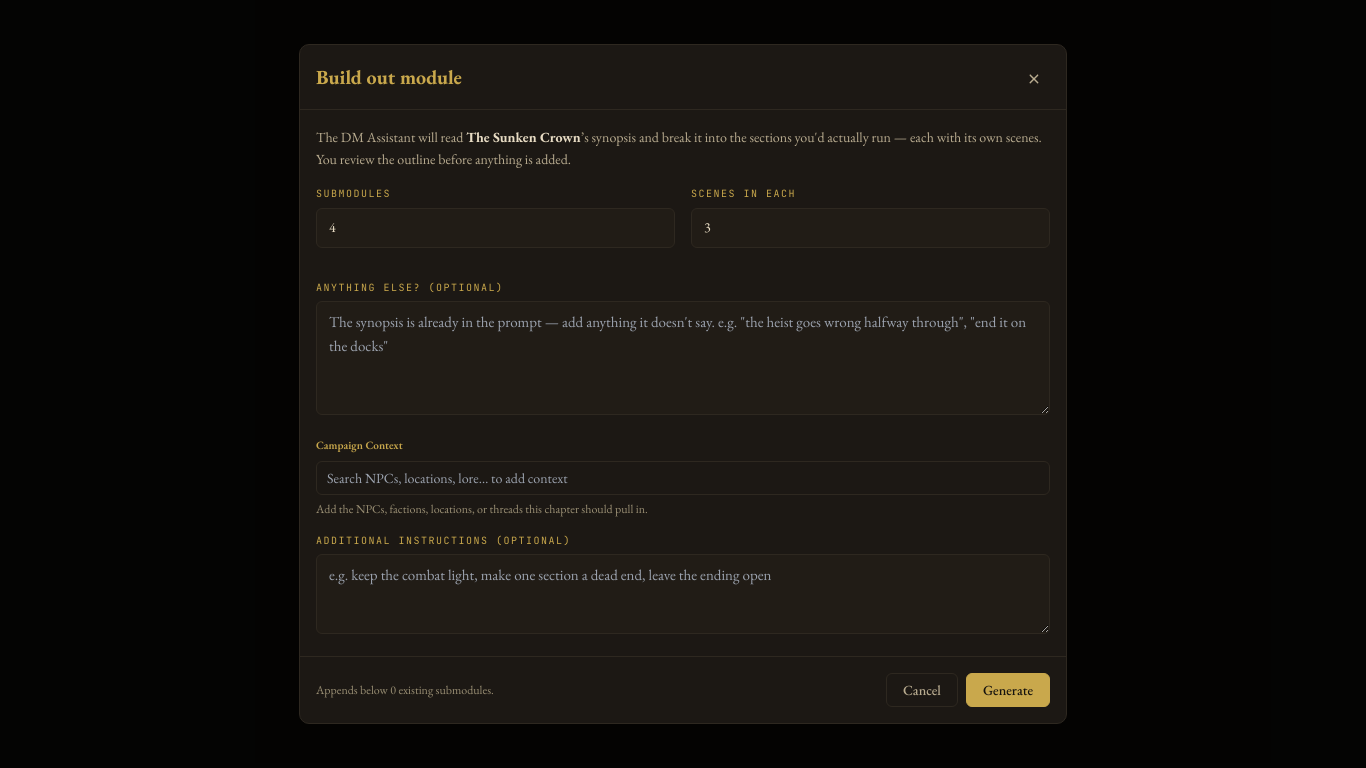
Test: GenerateModuleStructureModal › "Start over" returns to the form without writing
Click the button "Generate" at coordinates (1008, 690), box top-left (966, 673), bottom-right (1050, 707)
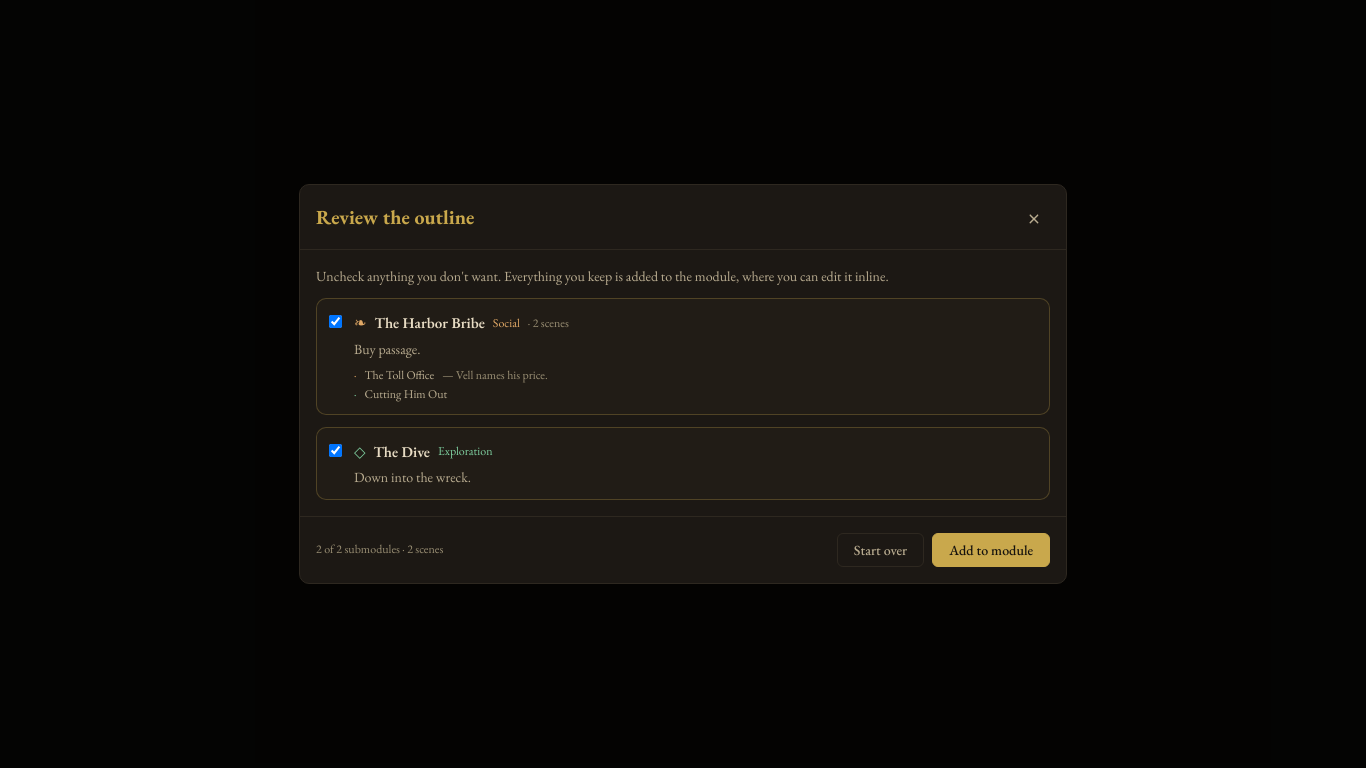
Expected: the text "The Harbor Bribe" is shown, top-left (375, 311), bottom-right (485, 335)
Click the button "Start over" at coordinates (880, 550), box top-left (837, 533), bottom-right (924, 567)
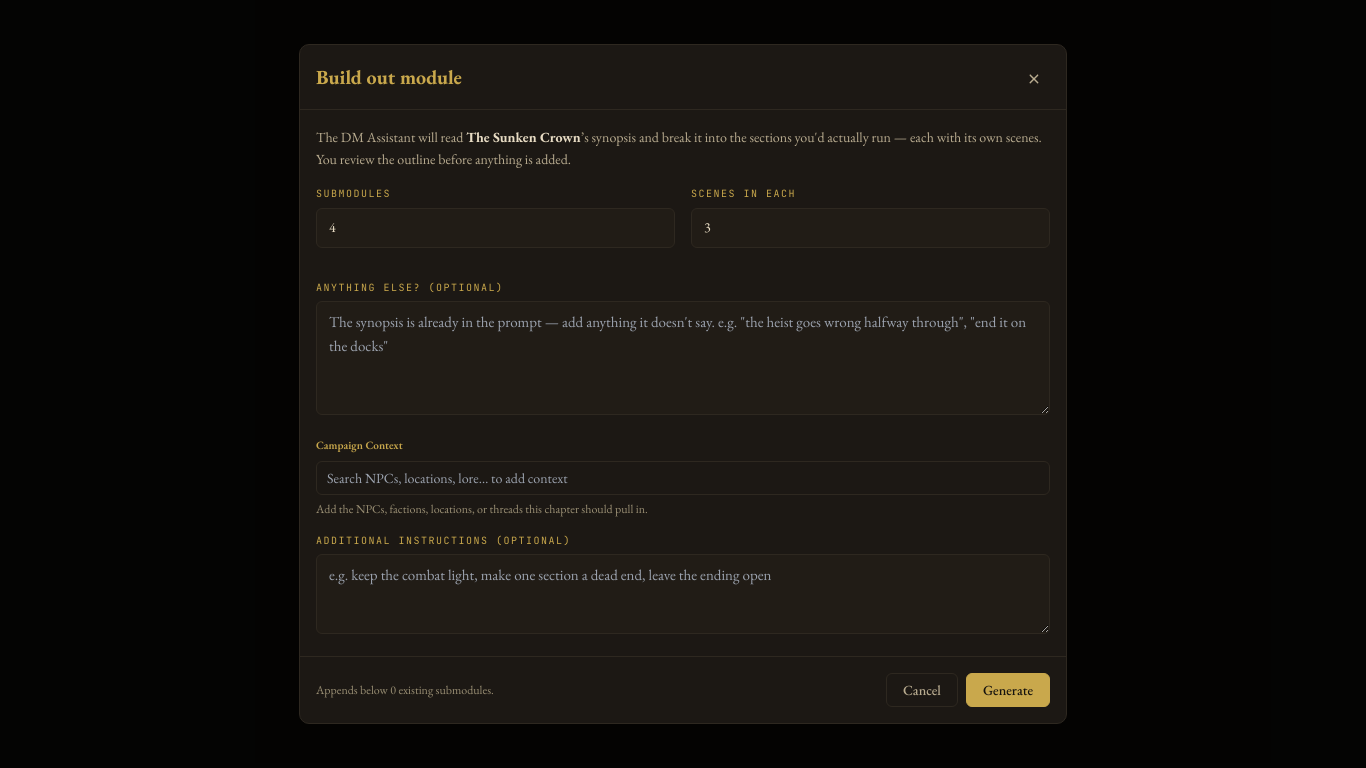
Expected: the button "Generate" is shown, top-left (966, 673), bottom-right (1050, 707)
